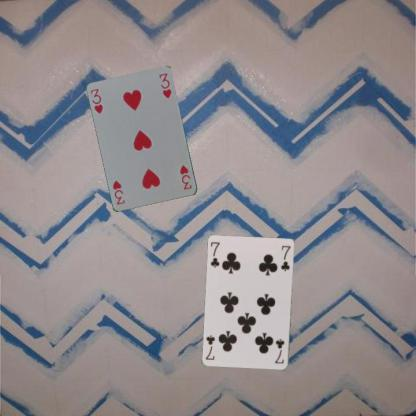3h: (177, 162, 193, 192), (89, 86, 104, 115)
7c: (272, 336, 286, 365), (208, 240, 221, 269)
